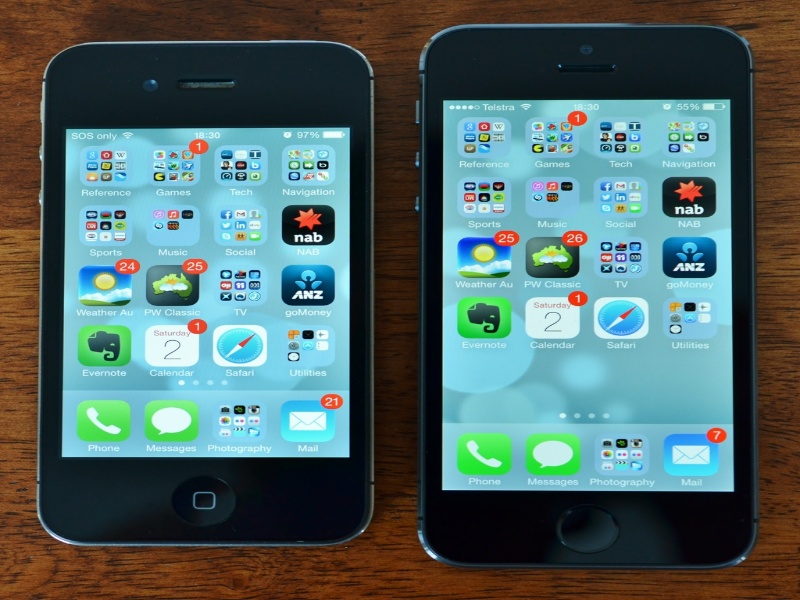cellphone: (412, 25, 761, 576), (32, 41, 378, 553)
